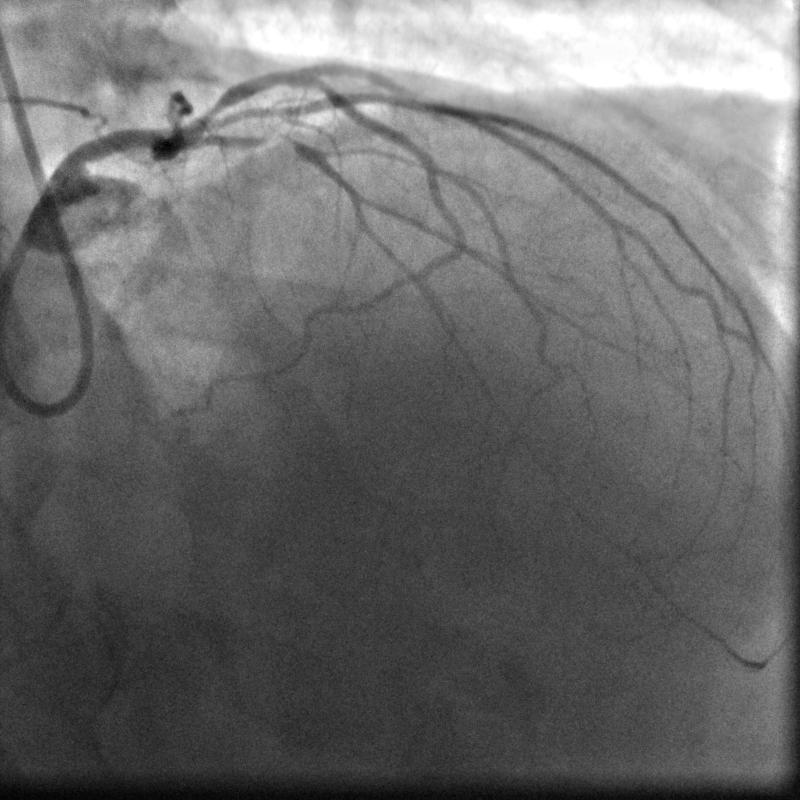Stenosis: (194, 95, 232, 134)
